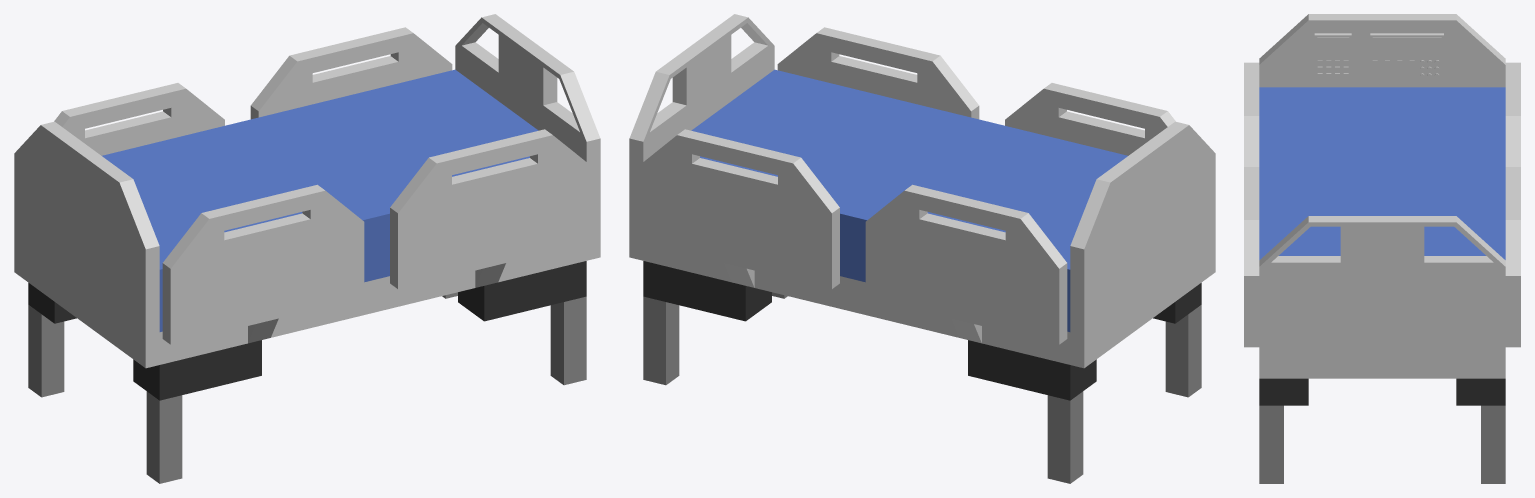
Rendered from Space_Block.fbx.
The picture shows the model from 3 angles, left to right: view 1: azimuth 30°, elevation 25°; view 2: azimuth 150°, elevation 25°; view 3: azimuth 270°, elevation 25°; orthographic projection. The views are drawn at different scales.
Parts seen in each view (by area): view 1: SpaceBed_Block1, SpaceBed_Block2; view 2: SpaceBed_Block1, SpaceBed_Block2; view 3: SpaceBed_Block2, SpaceBed_Block1.
Boxes of the visible parts, bbox=[...] form: SpaceBed_Block1: bbox=[14, 83, 372, 483]; SpaceBed_Block2: bbox=[242, 14, 600, 385]; SpaceBed_Block1: bbox=[857, 83, 1215, 483]; SpaceBed_Block2: bbox=[629, 14, 987, 385]; SpaceBed_Block2: bbox=[1244, 167, 1520, 483]; SpaceBed_Block1: bbox=[1244, 14, 1520, 185].
Bounding box in the file's own units: 10 × 6 × 5.61.
